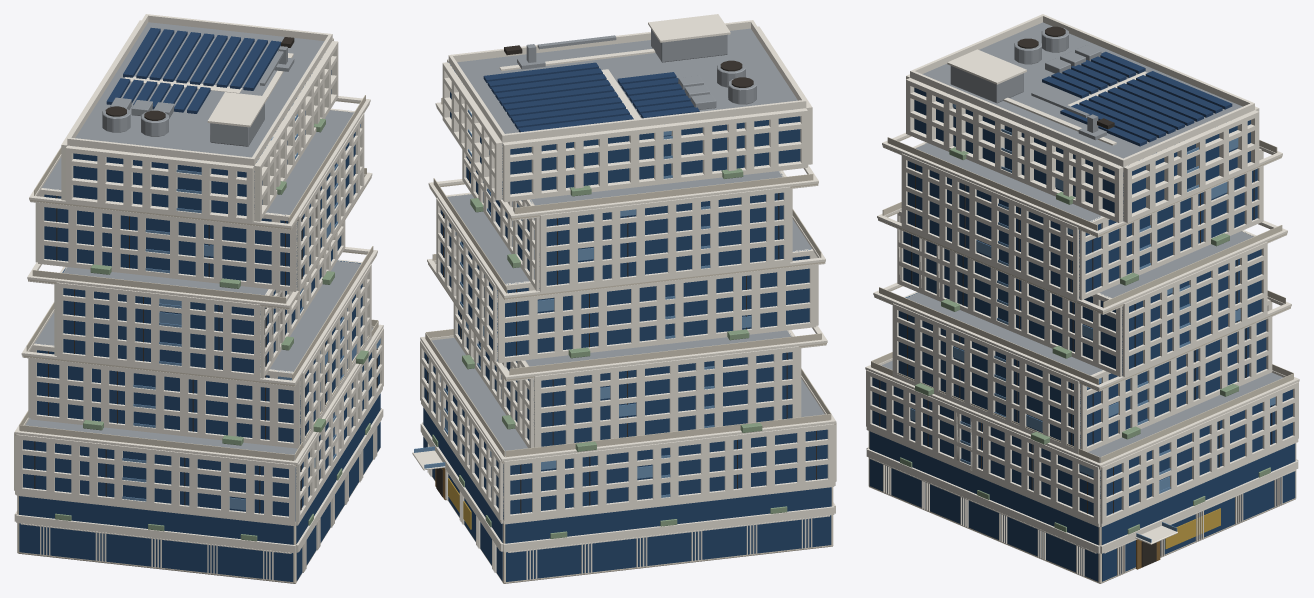
The model's file is one-steuart-lane.glb.
3 views of the same model, side by side, from view 1: azimuth 30°, elevation 25°; view 2: azimuth 150°, elevation 25°; view 3: azimuth 270°, elevation 25° (orthographic). The views are drawn at different scales.
Visible parts, largest first — view 1: grp_Toy_cream, grp_Toy_glass, grp_Toy_steel, grp_Toy_cream_Toy_steel, grp_Toy_navy, grp_Toy_stone, grp_Toy_sage, grp_Toy_ink, grp_Toy_cream_Glow, grp_Toy_glassl, base_body, grp_Toy_glassl_Glow; view 2: grp_Toy_cream, grp_Toy_glass, grp_Toy_steel, grp_Toy_navy, grp_Toy_stone, grp_Toy_cream_Toy_steel, grp_Toy_sage, grp_Toy_ink, grp_Toy_cream_Glow, grp_Toy_glassl_Glow, base_body, grp_Toy_glassl; view 3: grp_Toy_cream, grp_Toy_glass, grp_Toy_steel, grp_Toy_navy, grp_Toy_stone, grp_Toy_cream_Toy_steel, grp_Toy_ink, grp_Toy_sage, grp_Toy_cream_Glow, grp_Toy_glassl_Glow, grp_Toy_glassl, base_body (+1 smaller).
Boxes of the visible parts, x1=… form: grp_Toy_cream: x1=14, y1=14, x2=383, y2=580; grp_Toy_glass: x1=19, y1=70, x2=380, y2=581; grp_Toy_steel: x1=75, y1=22, x2=324, y2=157; grp_Toy_cream_Toy_steel: x1=25, y1=110, x2=372, y2=459; grp_Toy_navy: x1=106, y1=27, x2=281, y2=113; grp_Toy_stone: x1=15, y1=95, x2=378, y2=466; grp_Toy_sage: x1=55, y1=118, x2=370, y2=541; grp_Toy_ink: x1=34, y1=37, x2=377, y2=513; grp_Toy_cream_Glow: x1=15, y1=104, x2=381, y2=553; grp_Toy_glassl: x1=122, y1=114, x2=343, y2=501; base_body: x1=17, y1=448, x2=380, y2=583; grp_Toy_glassl_Glow: x1=159, y1=124, x2=380, y2=510; grp_Toy_cream: x1=412, y1=14, x2=836, y2=580; grp_Toy_glass: x1=423, y1=62, x2=831, y2=581; grp_Toy_steel: x1=457, y1=28, x2=797, y2=133; grp_Toy_navy: x1=483, y1=62, x2=699, y2=132; grp_Toy_stone: x1=425, y1=97, x2=835, y2=462; grp_Toy_cream_Toy_steel: x1=431, y1=171, x2=824, y2=455; grp_Toy_sage: x1=432, y1=168, x2=787, y2=538; grp_Toy_ink: x1=427, y1=45, x2=816, y2=513; grp_Toy_cream_Glow: x1=422, y1=107, x2=835, y2=552; grp_Toy_glassl_Glow: x1=445, y1=131, x2=751, y2=478; base_body: x1=432, y1=476, x2=833, y2=583; grp_Toy_glassl: x1=414, y1=109, x2=714, y2=497; grp_Toy_cream: x1=865, y1=14, x2=1299, y2=576; grp_Toy_glass: x1=869, y1=87, x2=1295, y2=581; grp_Toy_steel: x1=922, y1=22, x2=1242, y2=158; grp_Toy_navy: x1=1042, y1=51, x2=1232, y2=146; grp_Toy_stone: x1=866, y1=136, x2=1298, y2=468; grp_Toy_cream_Toy_steel: x1=881, y1=143, x2=1283, y2=462; grp_Toy_ink: x1=879, y1=26, x2=1272, y2=567; grp_Toy_sage: x1=900, y1=147, x2=1270, y2=534; grp_Toy_cream_Glow: x1=869, y1=146, x2=1295, y2=553; grp_Toy_glassl_Glow: x1=905, y1=104, x2=1275, y2=491; grp_Toy_glassl: x1=960, y1=129, x2=1198, y2=542; base_body: x1=868, y1=431, x2=1296, y2=583.
Size of the model in its own units: 62.95 by 67.06 by 62.49.
